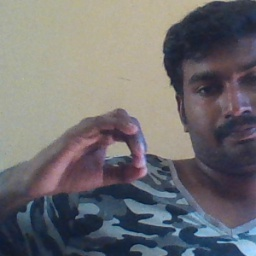O: (30, 106, 150, 200)
